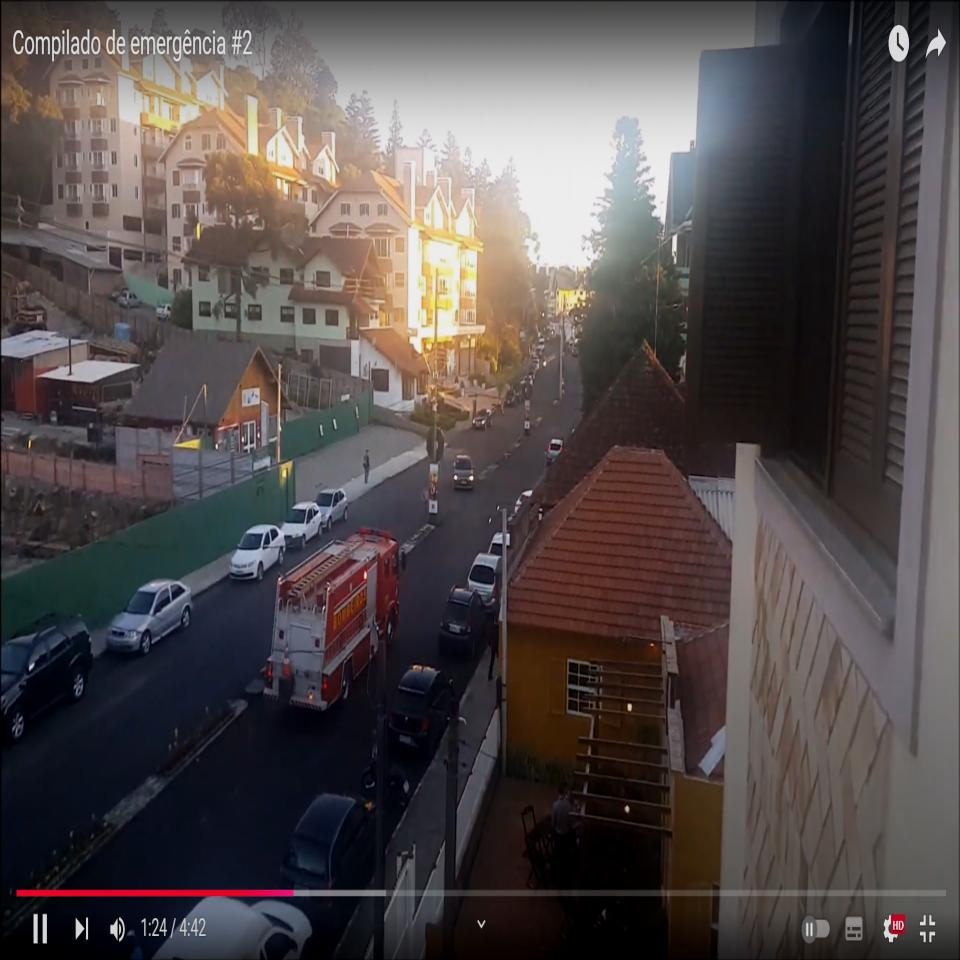bombeiro: (264, 525, 408, 716)
